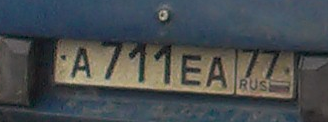character: (100, 37, 123, 83), (127, 38, 149, 85), (69, 46, 95, 83), (180, 53, 205, 90), (152, 42, 173, 86), (206, 53, 229, 92), (261, 45, 284, 80), (240, 46, 259, 80)
